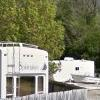Bus: (2, 36, 53, 100)
